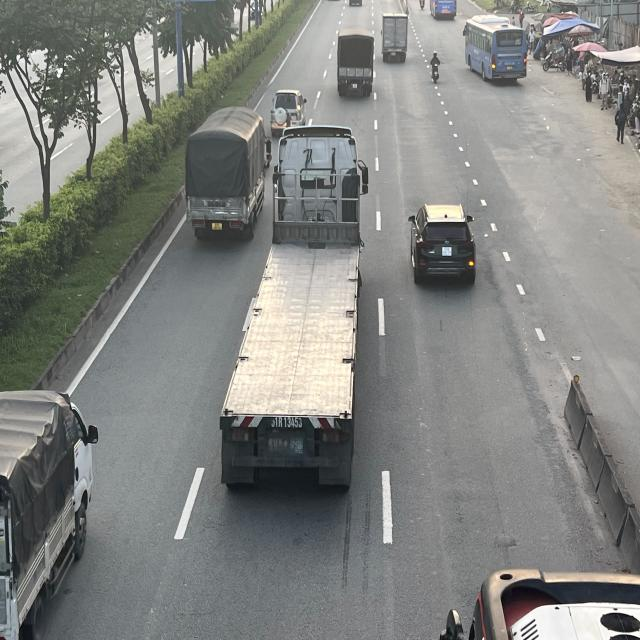car: (405, 204, 476, 288), (271, 88, 308, 136)
coach: (464, 14, 529, 80)
container: (220, 121, 370, 490)
truck: (0, 384, 95, 636), (184, 104, 270, 239), (336, 30, 375, 97), (380, 12, 408, 63)
